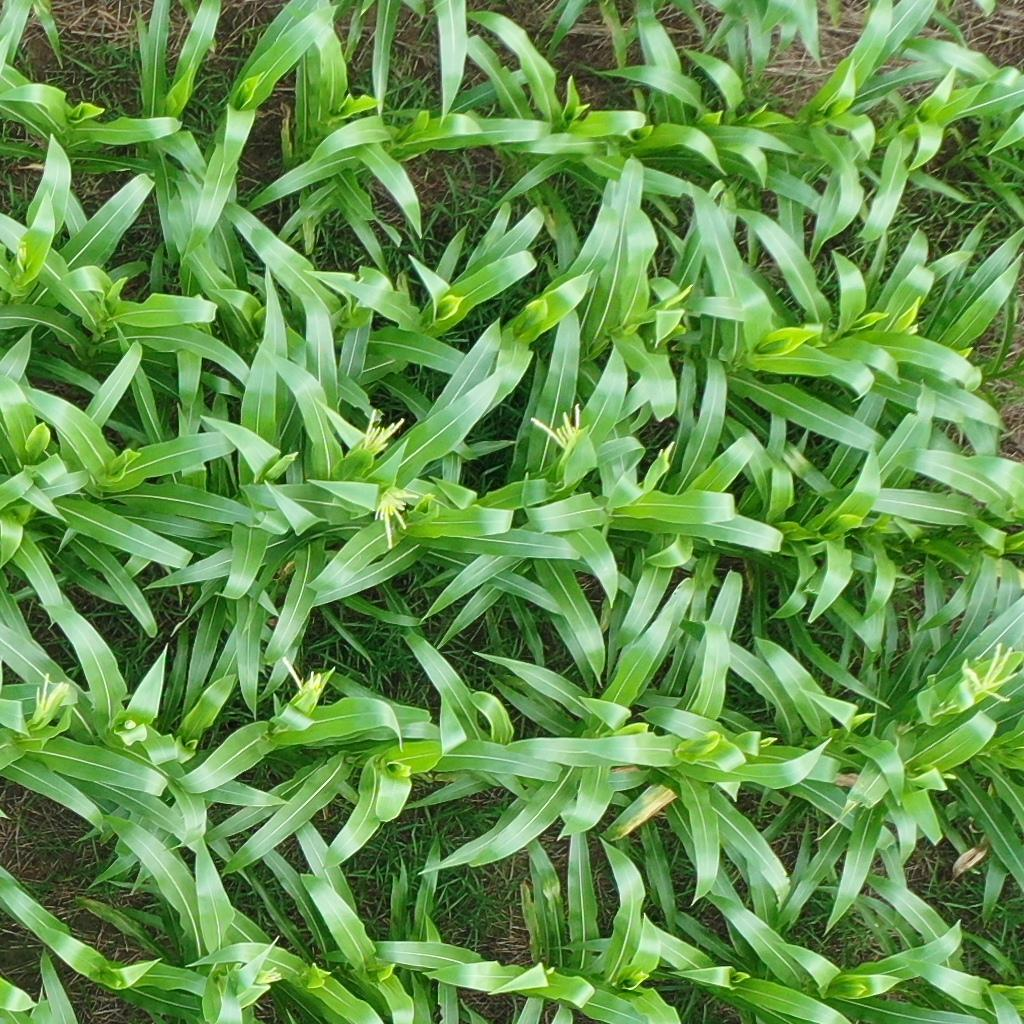Tassel: (958, 635, 1013, 708), (521, 398, 586, 449), (374, 486, 420, 554), (354, 407, 405, 463), (32, 672, 70, 724), (283, 654, 324, 701), (254, 962, 286, 992), (15, 239, 29, 270)
